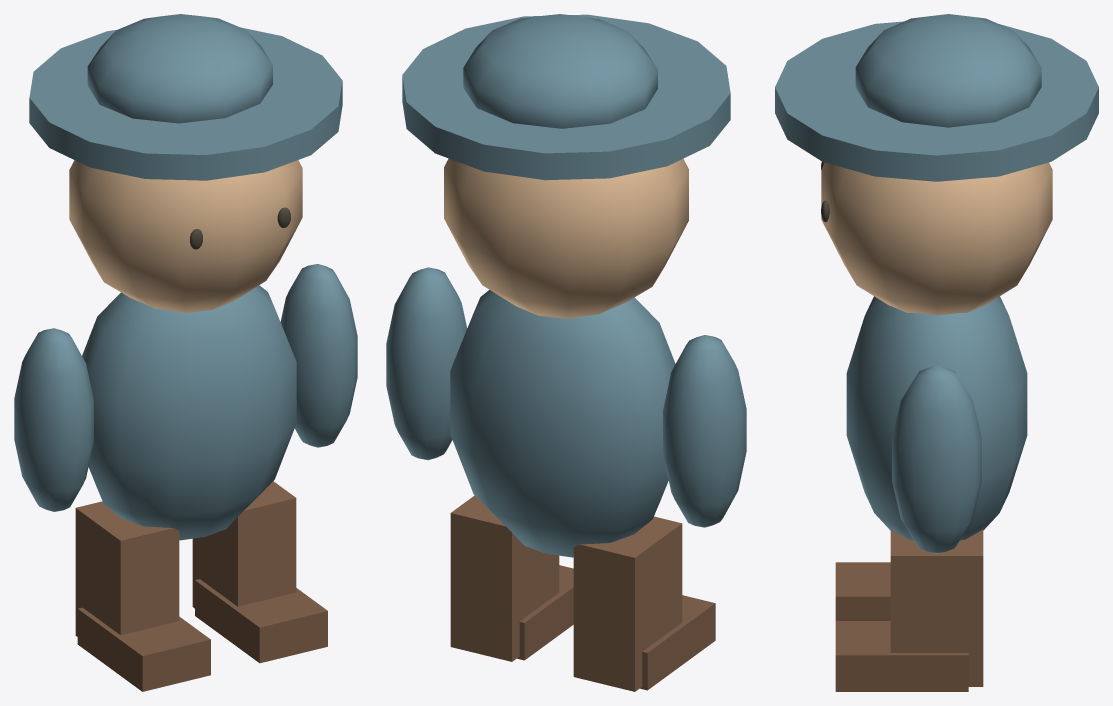
File: resident_3.glb
3 views of the same model, side by side, from view 1: azimuth 30°, elevation 25°; view 2: azimuth 150°, elevation 25°; view 3: azimuth 270°, elevation 25° (orthographic). The views are drawn at different scales.
Parts seen in each view (by area): view 1: _MeshInstance3D_294, _MeshInstance3D_295, _MeshInstance3D_298, _MeshInstance3D_299, _MeshInstance3D_300, _MeshInstance3D_290, _MeshInstance3D_301, _MeshInstance3D_292, _MeshInstance3D_291, _MeshInstance3D_293; view 2: _MeshInstance3D_294, _MeshInstance3D_295, _MeshInstance3D_298, _MeshInstance3D_299, _MeshInstance3D_290, _MeshInstance3D_300, _MeshInstance3D_292, _MeshInstance3D_301, _MeshInstance3D_291, _MeshInstance3D_293; view 3: _MeshInstance3D_295, _MeshInstance3D_298, _MeshInstance3D_294, _MeshInstance3D_299, _MeshInstance3D_301, _MeshInstance3D_292, _MeshInstance3D_293, _MeshInstance3D_291.
Part boxes in pixels (x1,y1,x2,y2): _MeshInstance3D_294: [82, 285, 296, 540]; _MeshInstance3D_295: [69, 160, 302, 312]; _MeshInstance3D_298: [29, 27, 342, 180]; _MeshInstance3D_299: [87, 14, 272, 123]; _MeshInstance3D_300: [14, 328, 93, 511]; _MeshInstance3D_290: [75, 501, 179, 636]; _MeshInstance3D_301: [280, 264, 357, 447]; _MeshInstance3D_292: [192, 481, 296, 608]; _MeshInstance3D_291: [77, 607, 210, 691]; _MeshInstance3D_293: [195, 579, 327, 663]; _MeshInstance3D_294: [450, 290, 675, 557]; _MeshInstance3D_295: [444, 158, 688, 318]; _MeshInstance3D_298: [402, 14, 730, 180]; _MeshInstance3D_299: [463, 14, 657, 128]; _MeshInstance3D_290: [573, 516, 682, 691]; _MeshInstance3D_300: [663, 335, 746, 527]; _MeshInstance3D_292: [450, 495, 559, 661]; _MeshInstance3D_301: [386, 267, 467, 460]; _MeshInstance3D_291: [640, 595, 715, 690]; _MeshInstance3D_293: [517, 565, 573, 660]; _MeshInstance3D_295: [821, 162, 1052, 315]; _MeshInstance3D_298: [775, 21, 1098, 181]; _MeshInstance3D_294: [846, 296, 1027, 540]; _MeshInstance3D_299: [855, 14, 1041, 127]; _MeshInstance3D_301: [892, 365, 981, 553]; _MeshInstance3D_292: [890, 530, 983, 686]; _MeshInstance3D_293: [835, 621, 968, 691]; _MeshInstance3D_291: [835, 562, 890, 620].
Size of the model in its own units: 0.6765 by 1.18 by 0.56.
